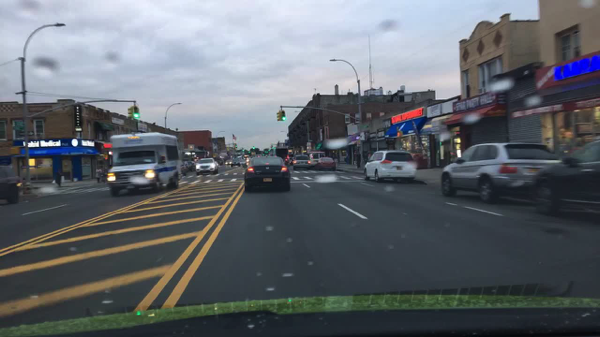car: (441, 141, 561, 205), (530, 133, 598, 222), (362, 149, 418, 183), (242, 155, 292, 193), (0, 165, 23, 204), (194, 157, 217, 176), (314, 157, 337, 173), (292, 153, 309, 171), (179, 161, 189, 175), (311, 153, 325, 163), (183, 161, 191, 173), (223, 159, 232, 167), (238, 161, 249, 167), (189, 161, 197, 169), (230, 160, 239, 166), (213, 162, 220, 169), (284, 157, 292, 163), (242, 155, 249, 161), (254, 154, 262, 157)
person: (576, 132, 592, 150), (56, 167, 63, 189), (355, 151, 360, 169), (96, 167, 101, 182), (336, 155, 341, 166)
traffic light: (133, 106, 141, 119), (11, 147, 22, 156), (126, 104, 132, 120), (280, 110, 285, 121), (276, 110, 280, 121), (234, 144, 238, 149), (251, 145, 255, 150), (242, 147, 245, 152)
traffic sign: (19, 131, 34, 137), (12, 125, 22, 131), (306, 142, 311, 151), (18, 165, 28, 169), (363, 125, 369, 130)
truck: (105, 134, 182, 198), (272, 145, 286, 157)
